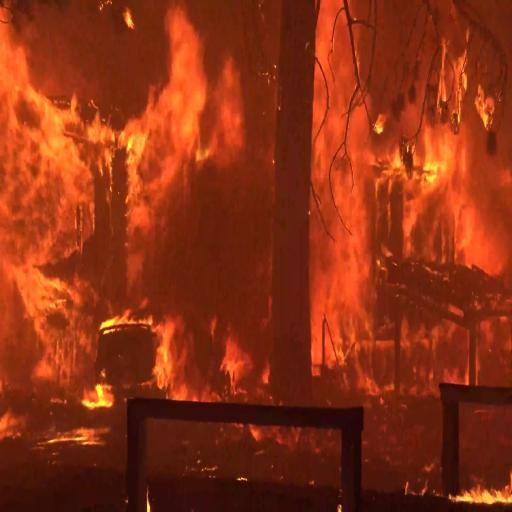fire: (307, 24, 367, 359), (0, 69, 98, 272), (133, 8, 232, 174), (10, 281, 89, 388), (429, 43, 500, 133), (148, 310, 196, 383), (451, 461, 512, 511), (215, 331, 256, 386)
